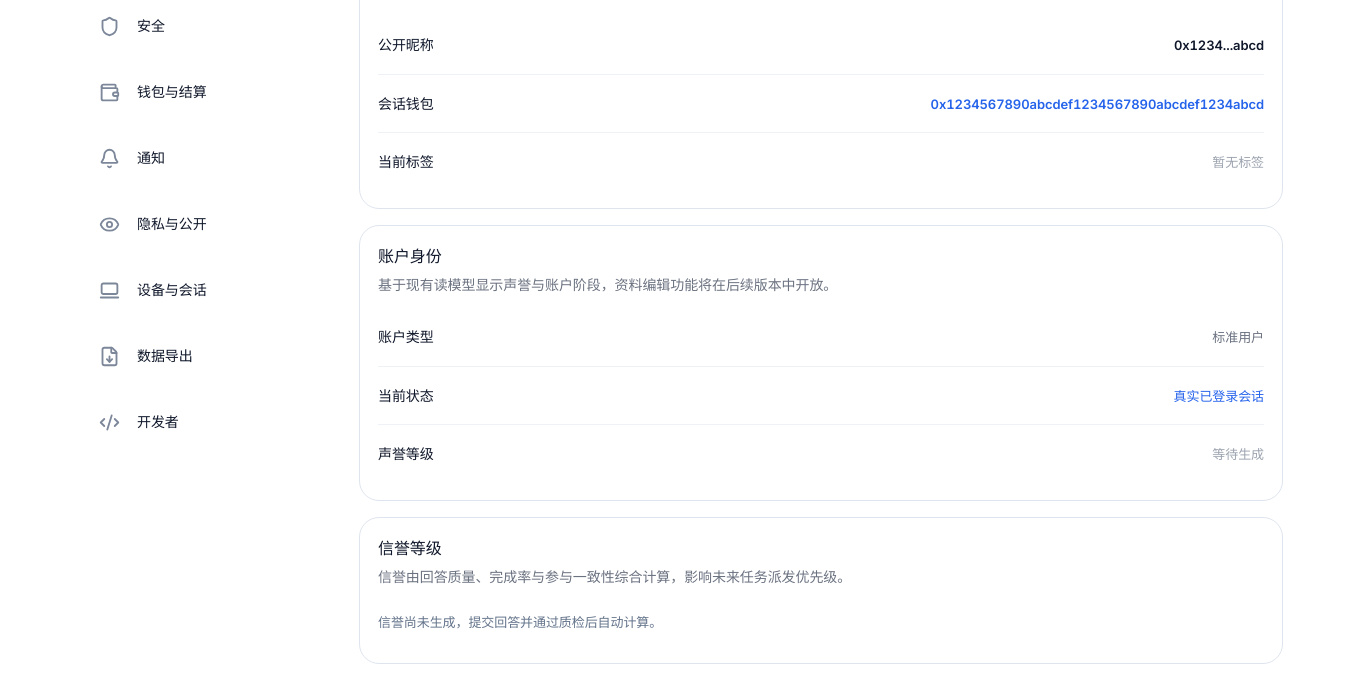
AccountActivityPage › keeps the exports section honest when only list metadata exists and no artifact detail is available yet
Click the button "数据导出".
click(197, 356)  # box [83, 329, 311, 383]
(page scrolled)
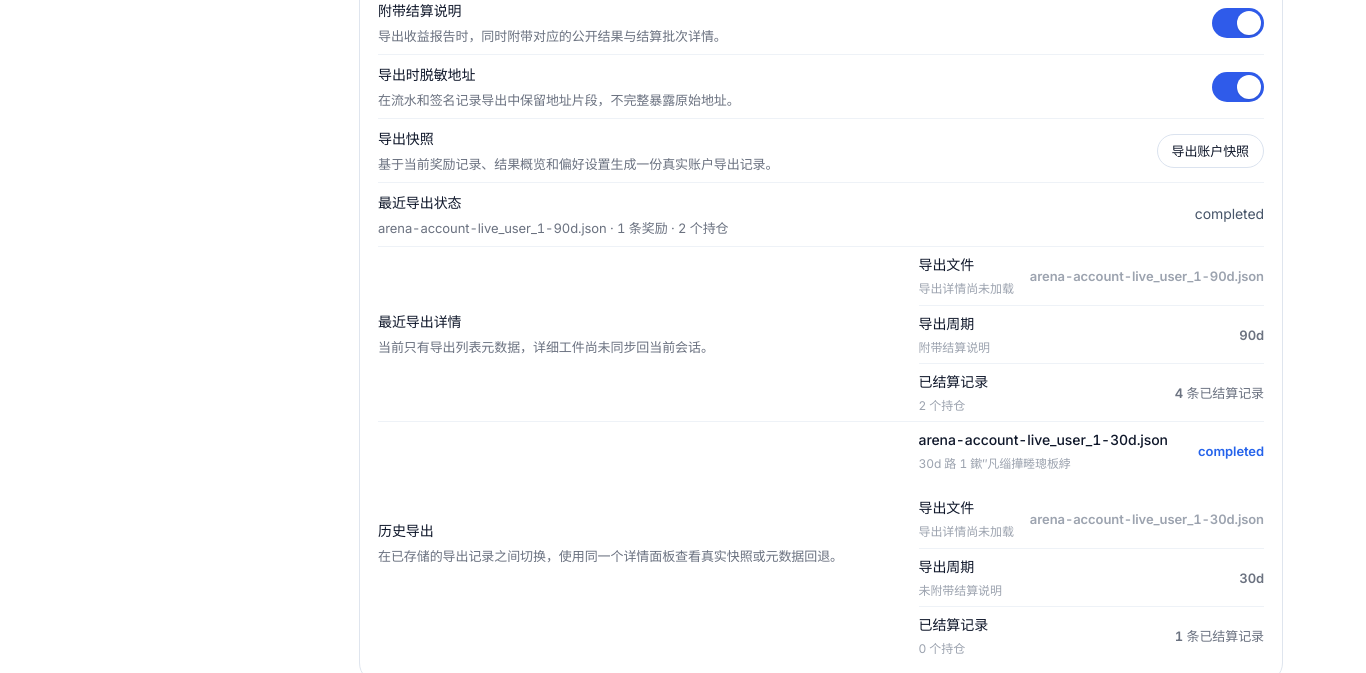
Expected: the 1st text "导出详情尚未加载" is shown, [918, 280, 1014, 298]
